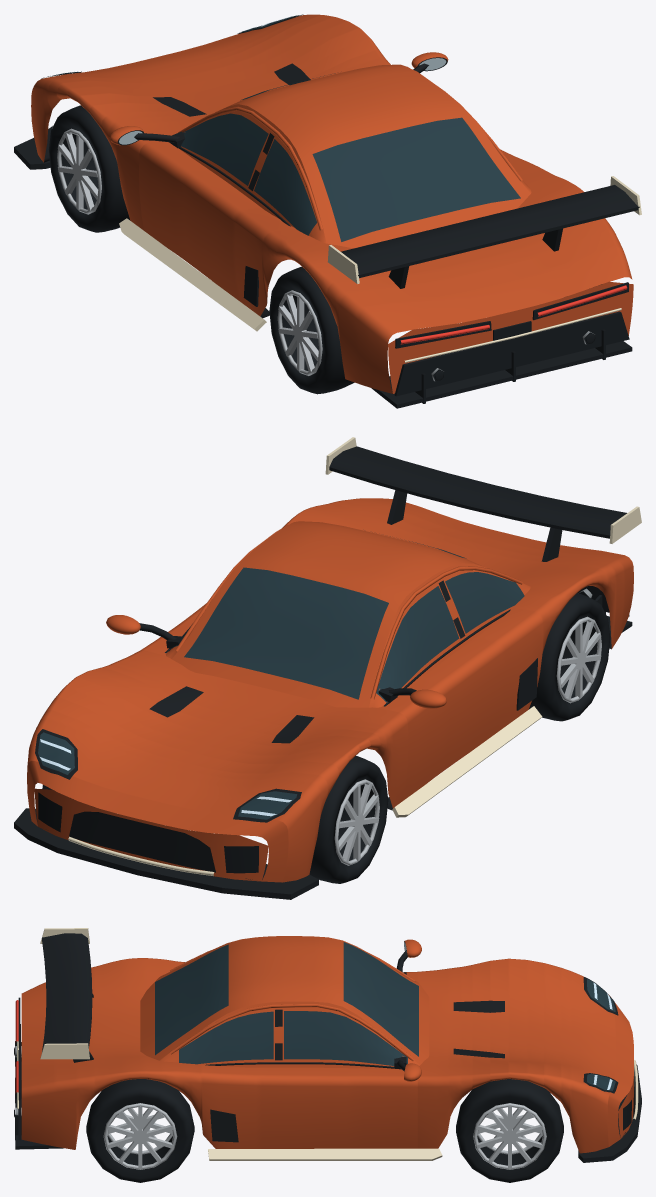
3 renders of one model, top to bottom at view 1: azimuth 30°, elevation 25°; view 2: azimuth 150°, elevation 25°; view 3: azimuth 270°, elevation 25°, orthographic. The views are drawn at different scales.
Visible parts, largest first — view 1: body_paint, body_carbon, body_glass, wheel_carbon (×2), wheel_rim (×2), body_accent, body_rearLights; view 2: body_paint, body_glass, body_carbon, wheel_carbon (×2), wheel_rim (×2), body_accent; view 3: body_paint, body_glass, wheel_carbon (×2), body_carbon, wheel_rim (×2), body_accent.
Boxes of the visible parts, bbox=[...] form: body_paint: bbox=[31, 14, 633, 393]; body_carbon: bbox=[14, 14, 639, 408]; body_glass: bbox=[52, 15, 520, 241]; wheel_carbon (×2): bbox=[48, 105, 354, 394]; wheel_rim (×2): bbox=[57, 128, 322, 375]; body_accent: bbox=[119, 176, 641, 362]; body_rearLights: bbox=[400, 285, 627, 344]; body_paint: bbox=[27, 498, 633, 882]; body_glass: bbox=[38, 536, 524, 819]; body_carbon: bbox=[14, 446, 632, 899]; wheel_carbon (×2): bbox=[309, 593, 610, 883]; wheel_rim (×2): bbox=[334, 616, 601, 865]; body_accent: bbox=[68, 437, 641, 875]; body_paint: bbox=[21, 936, 633, 1153]; body_glass: bbox=[155, 942, 615, 1090]; wheel_carbon (×2): bbox=[86, 1079, 563, 1182]; body_carbon: bbox=[14, 933, 641, 1162]; wheel_rim (×2): bbox=[103, 1103, 546, 1169]; body_accent: bbox=[17, 928, 638, 1160].
Bounding box in the file's own units: 1.23 × 0.6898 × 2.38.
